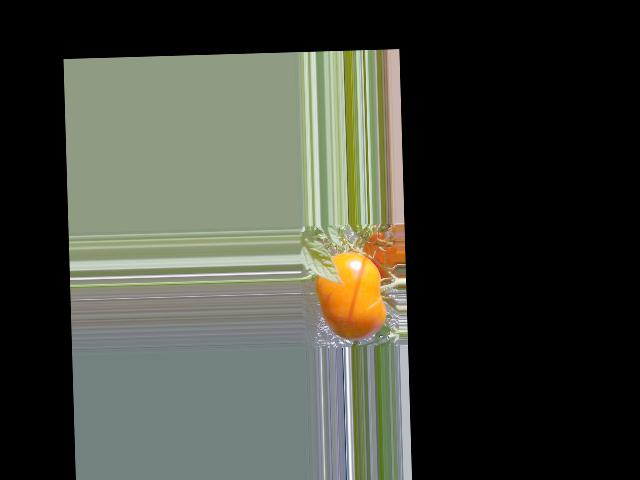tomato: (314, 251, 386, 341)
